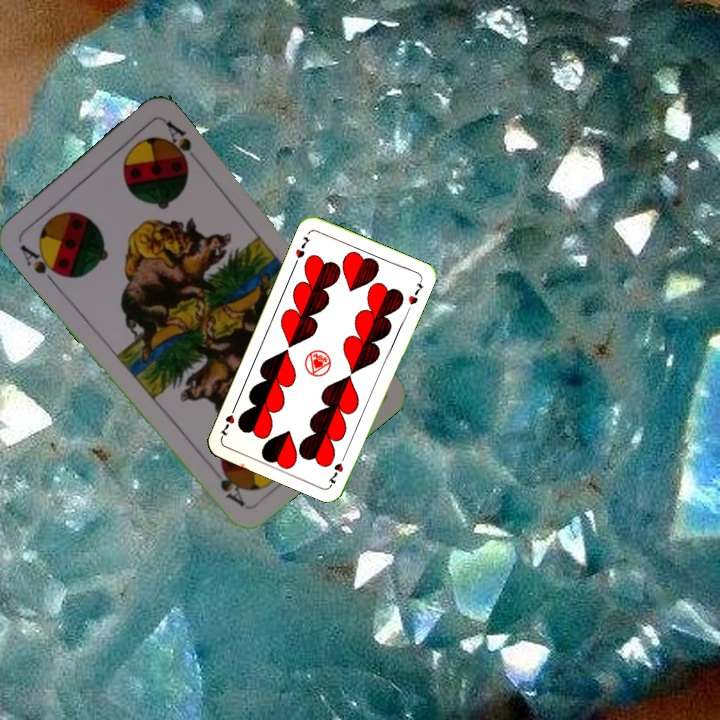H7: (324, 449, 349, 488), (291, 232, 313, 261)
SA: (15, 240, 66, 287)
